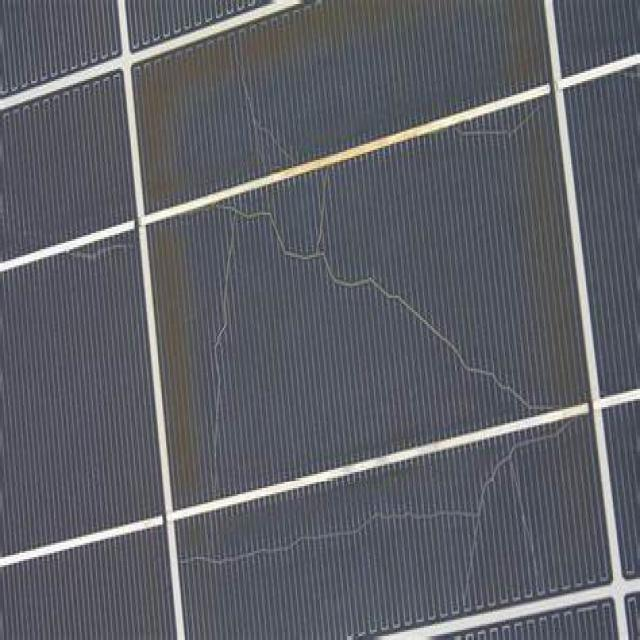electrical damage: (125, 5, 614, 630)
